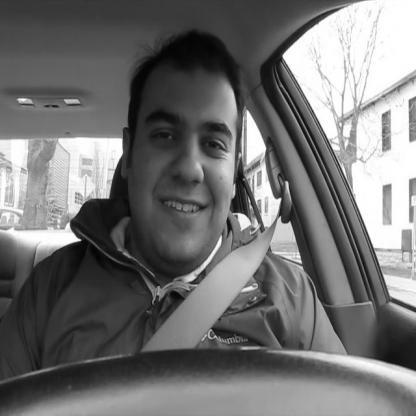seatbelt: (109, 17, 299, 356)
